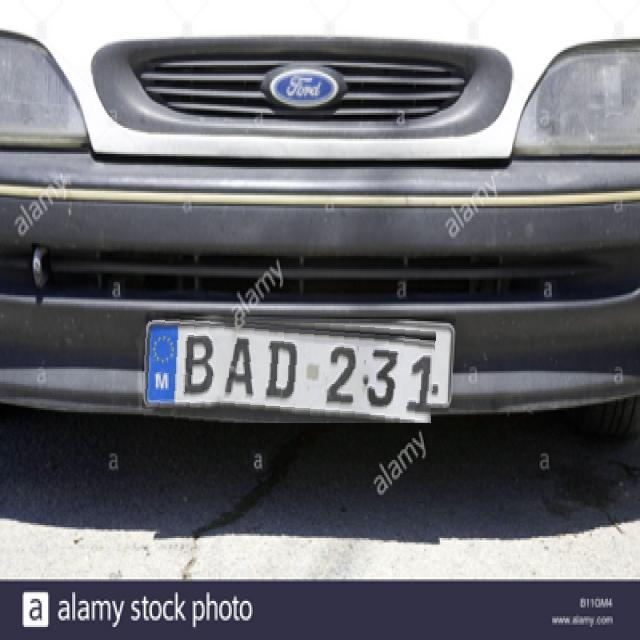licence: (142, 312, 436, 423)
